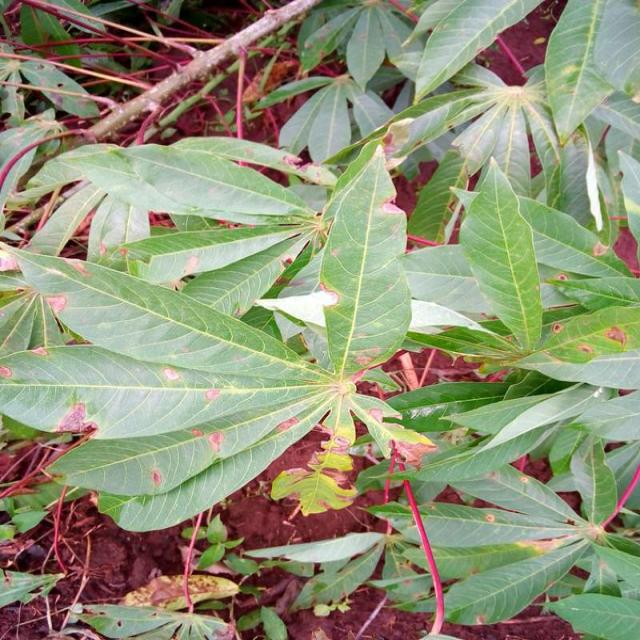cassava leaf: (2, 1, 639, 636), (1, 135, 418, 532), (458, 155, 544, 354)
